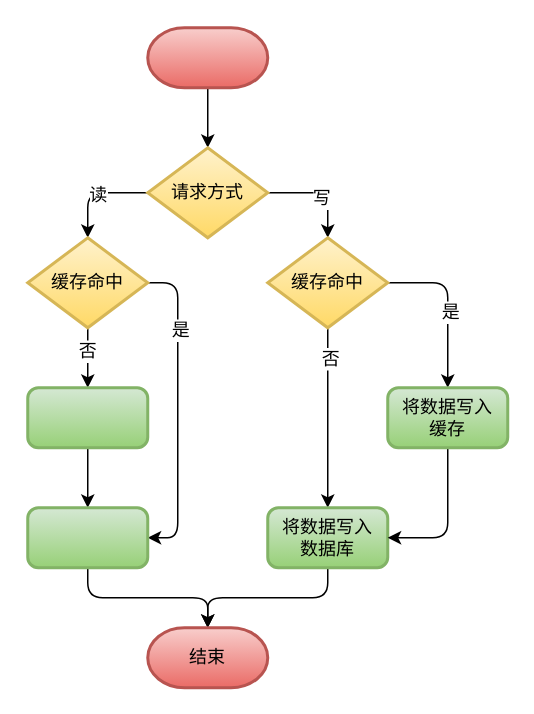
Some shapes in this 534 by 714 pixel diagram are drawn without their labels. The box of each missing label's shape, as (x1, y1, x2, y2) in pixels:
从数据库读取 数据并写入缓存: (26, 386, 148, 448)
请求: (146, 26, 268, 88)
返回数据: (26, 506, 148, 568)
